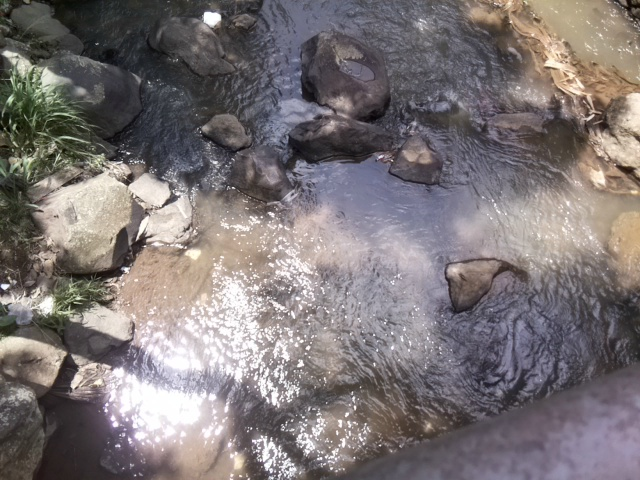Sampah_Styrofoam: (201, 10, 225, 29)
